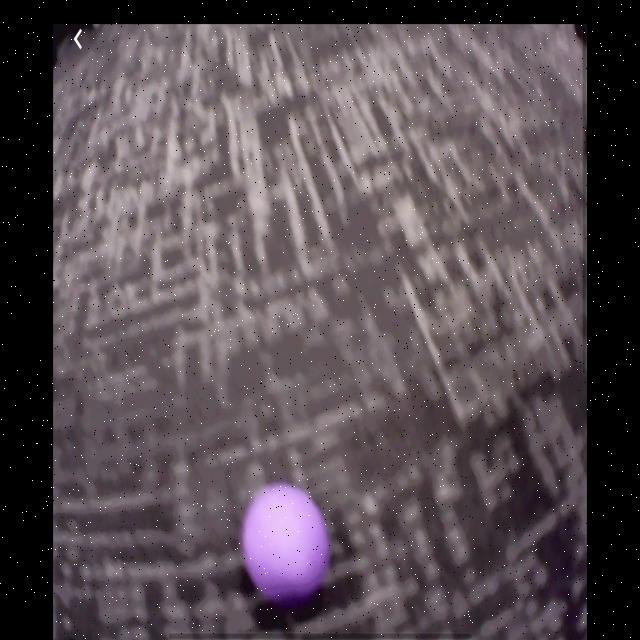ball: (245, 485, 325, 600)
